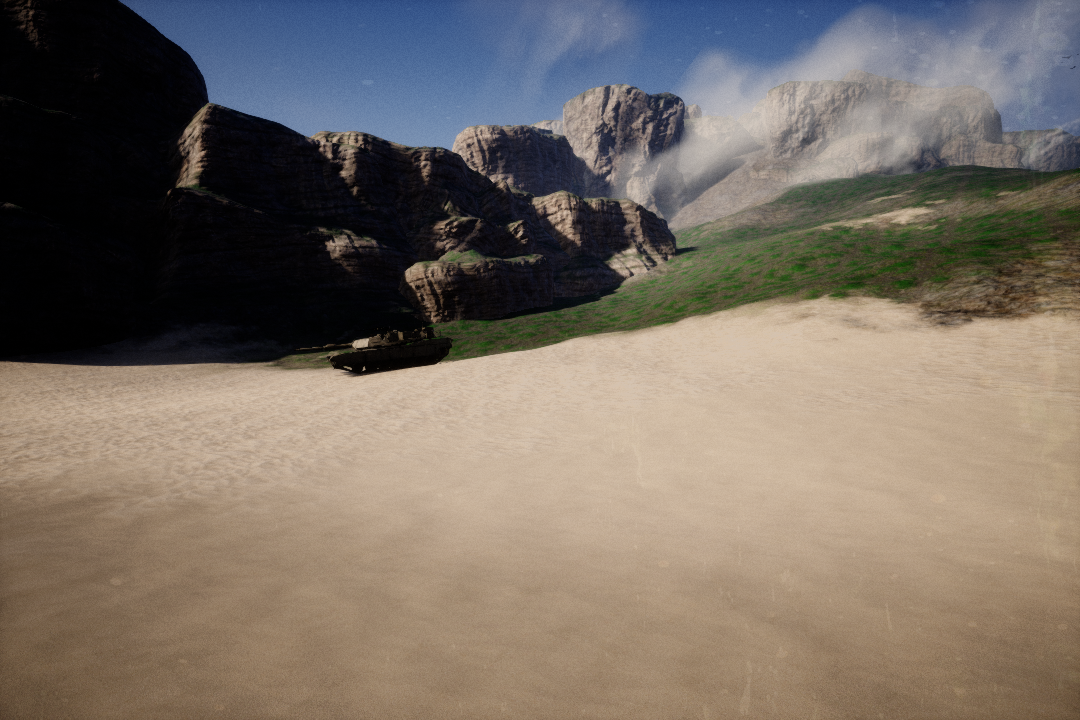tank: (292, 323, 458, 378)
